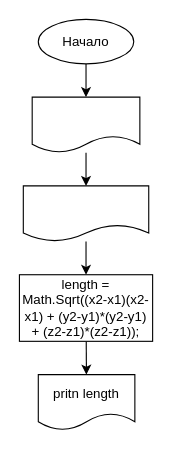
Some shapes in this 172 by 450 pixel diagram are drawn without their labels. Each missing label, with the centre of its shape:
Введите 3 числа через , сторка B: point (85, 213)
Введите 3 числа через , сторка А: point (85, 124)
